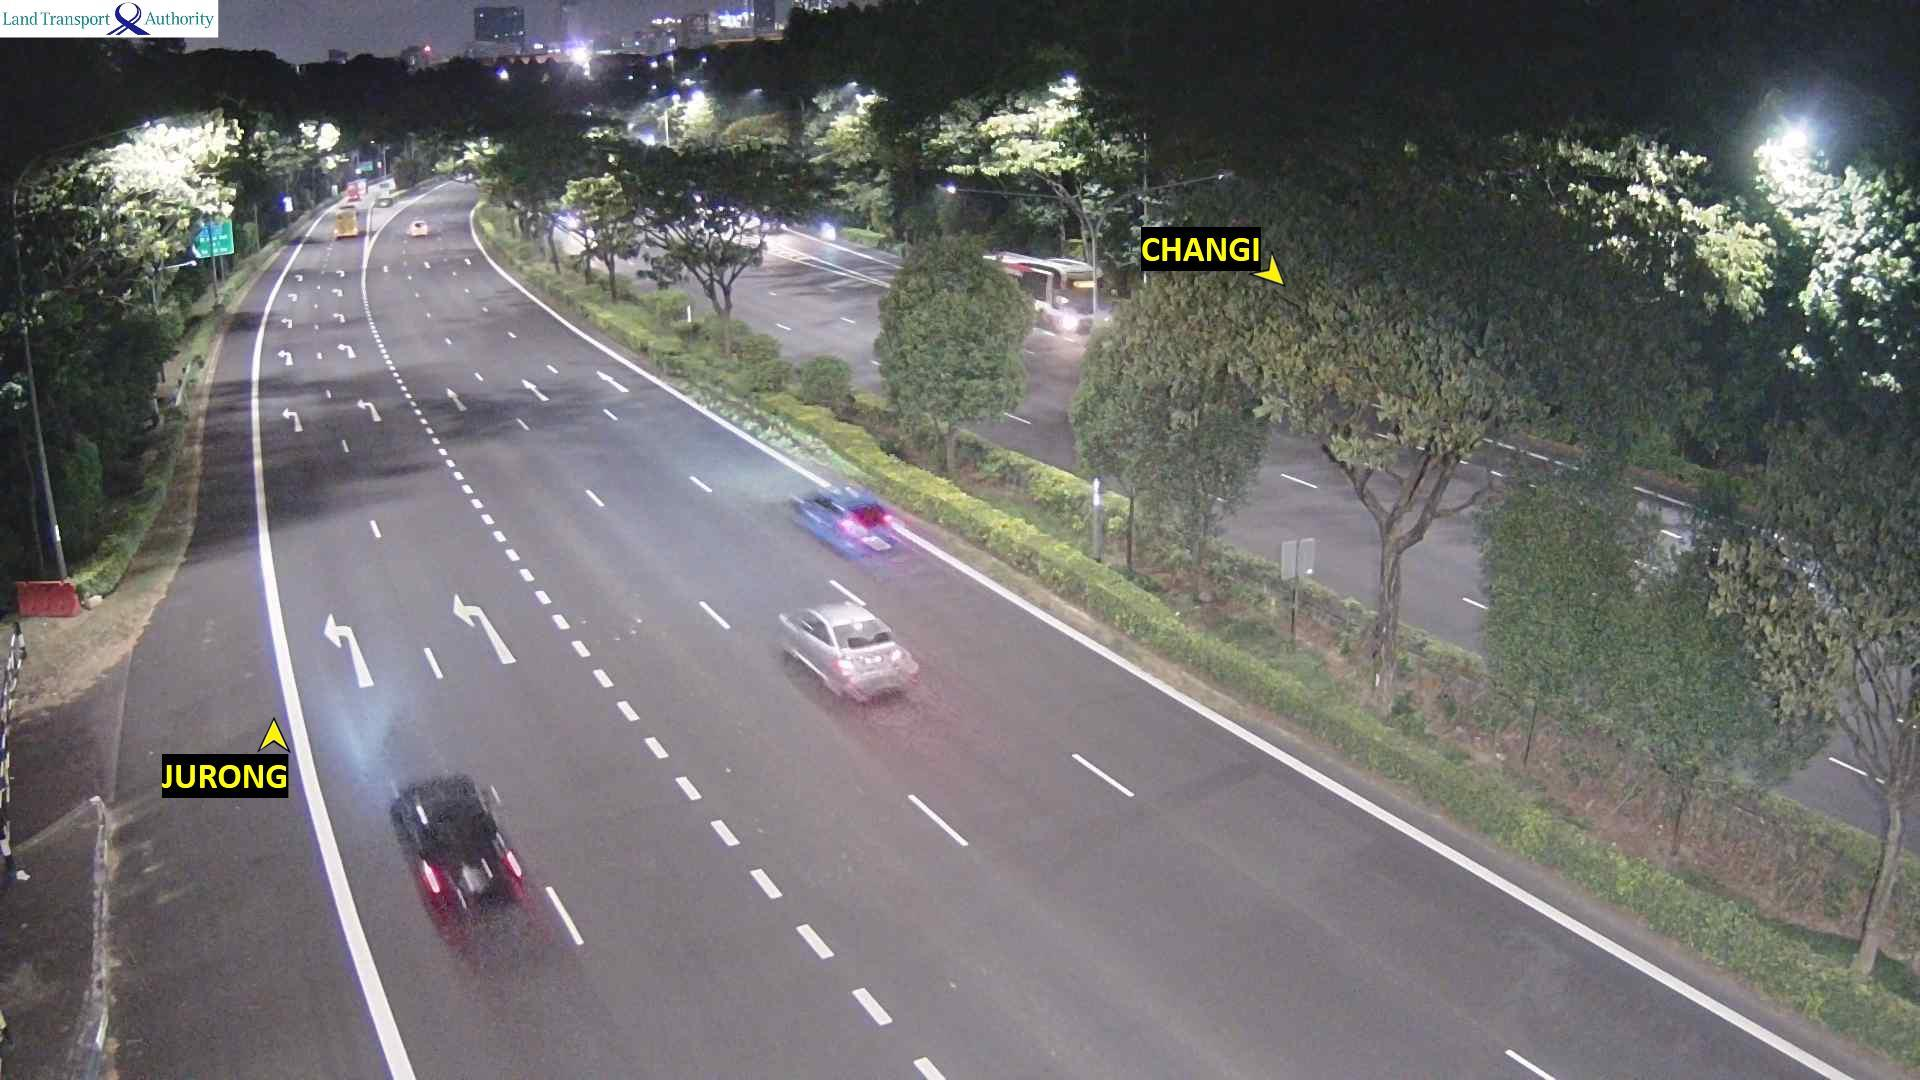bus: (978, 248, 1101, 334)
cars: (388, 771, 526, 928), (775, 599, 919, 704), (789, 483, 897, 558), (406, 218, 429, 237), (351, 171, 368, 195), (376, 174, 396, 193), (454, 166, 473, 183), (345, 191, 361, 202)
trucks: (332, 200, 361, 237)
